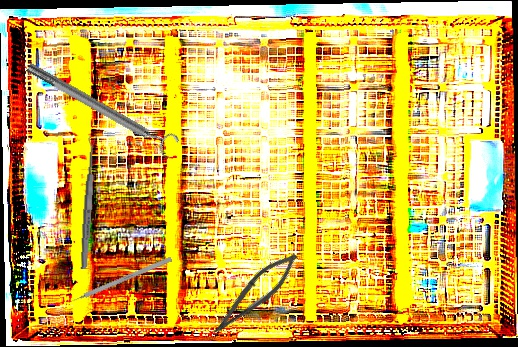Fixation Ring: (22, 54, 181, 161)
Hook Surgical: (63, 256, 173, 307)
Micro Scissor: (206, 243, 305, 347)
Surgical Spoon: (79, 135, 98, 270)
